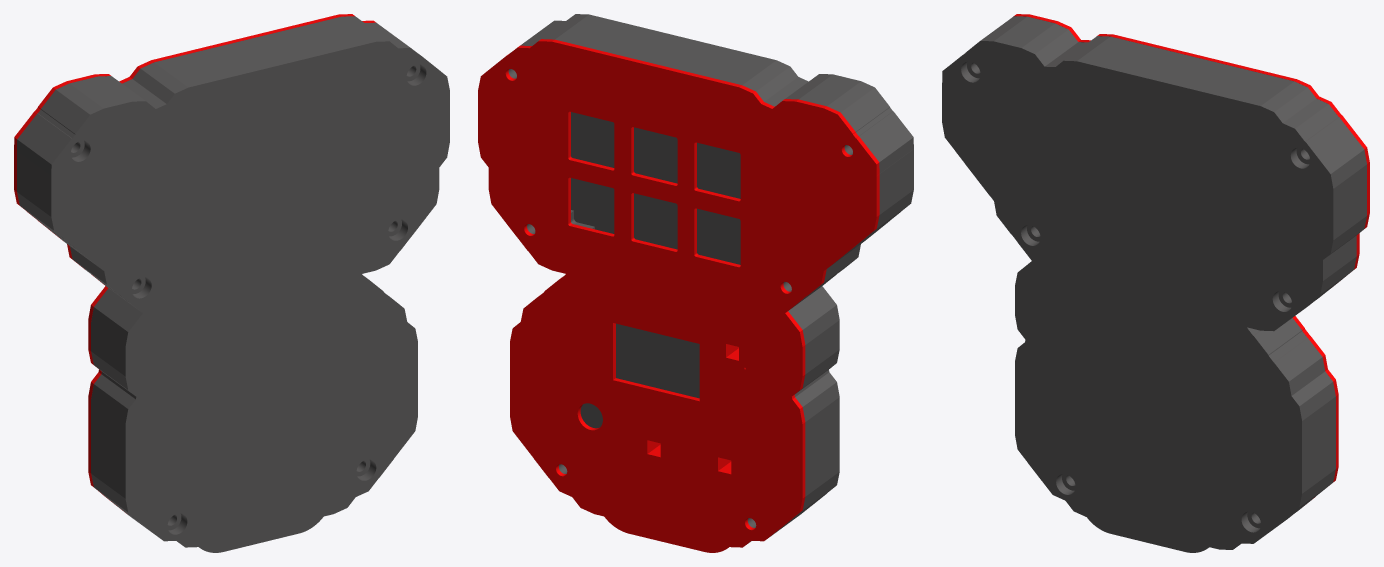
File: SnakePad.glb
The picture shows the model from 3 angles, left to right: view 1: azimuth 30°, elevation 25°; view 2: azimuth 150°, elevation 25°; view 3: azimuth 330°, elevation 25°; orthographic projection.
Parts seen in each view (by area): view 1: Node2, Node1; view 2: Node1, Node2, Node3; view 3: Node2, Node1.
Boxes of the visible parts, bbox=[...] form: Node2: bbox=[17, 16, 449, 552]; Node1: bbox=[14, 14, 375, 510]; Node1: bbox=[478, 39, 879, 552]; Node2: bbox=[508, 14, 913, 543]; Node3: bbox=[512, 79, 841, 515]; Node2: bbox=[942, 16, 1366, 552]; Node1: bbox=[1013, 14, 1369, 498].
Bounding box in the file's own units: 120 × 137 × 19.5.
